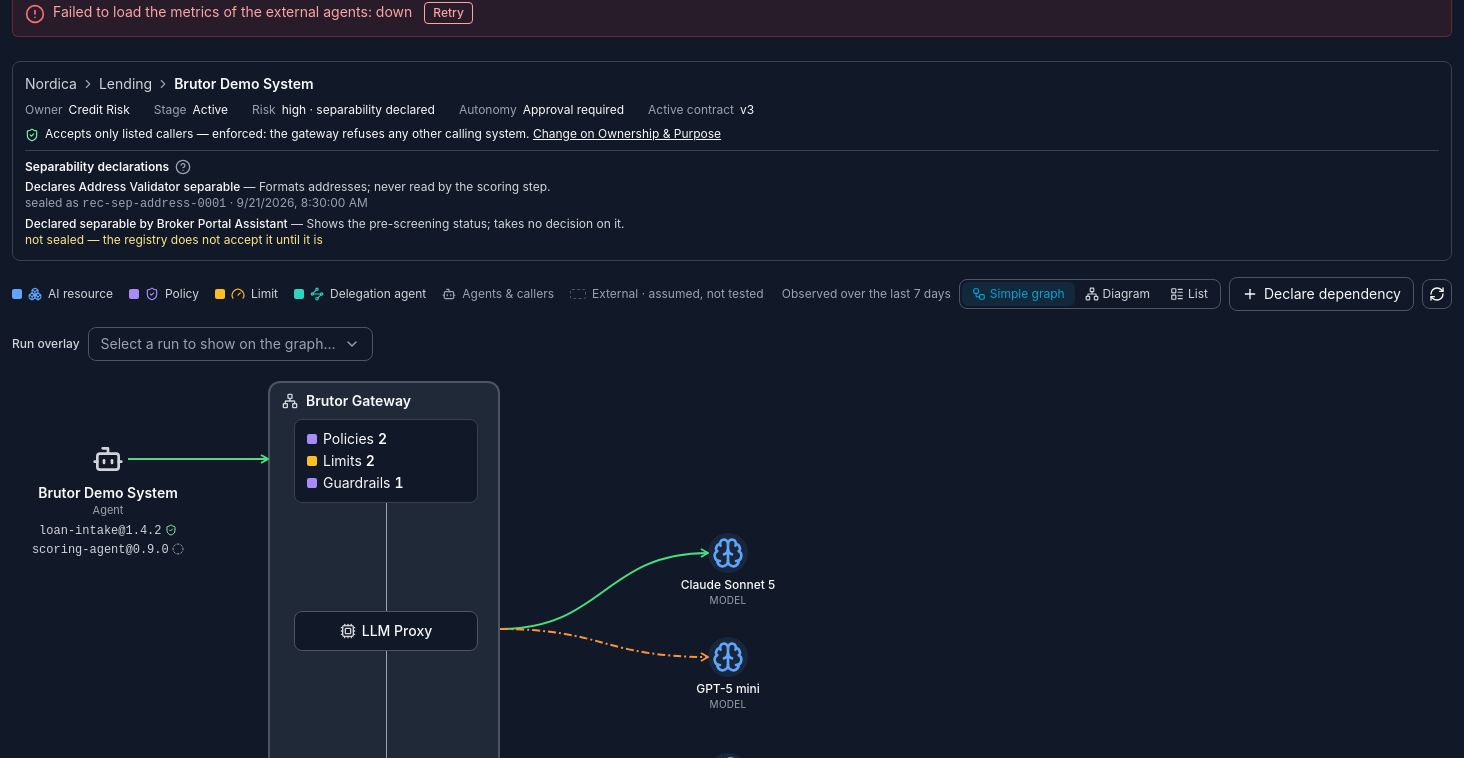
it: external nodes — supplier and boundary task states › a failed health load leaves the node without it, not broken
Click the button with test id "composition-view-diagram".
click(1117, 294)  # box [1075,282,1160,306]
(page scrolled)
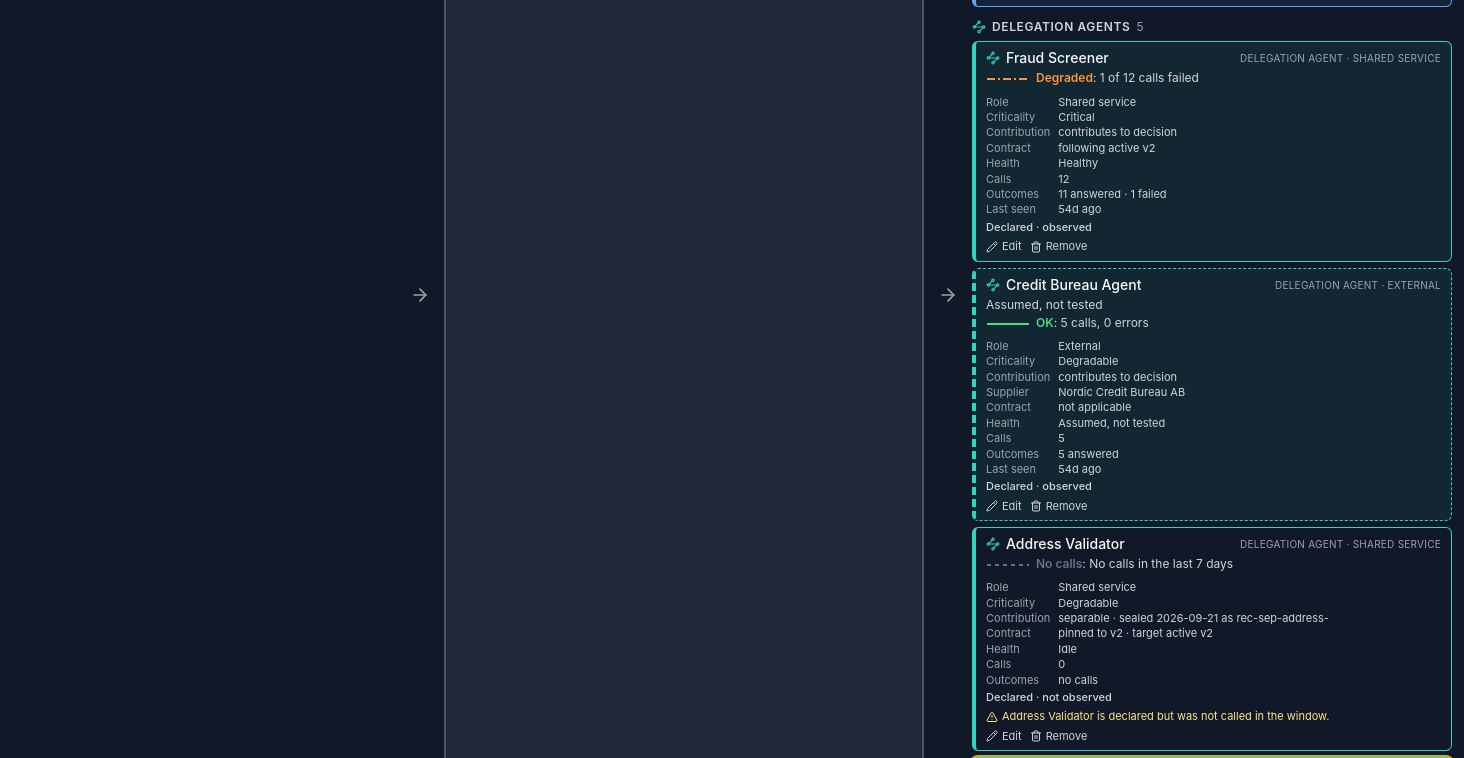
Expected: the element with test id "composition-node-dep:dep-bureau" does not show "Task states", [972,268,1452,521]
Now the element with test id "composition-node-dep:dep-bureau" shows "Nordic Credit Bureau AB", box [1058,385,1185,399]
